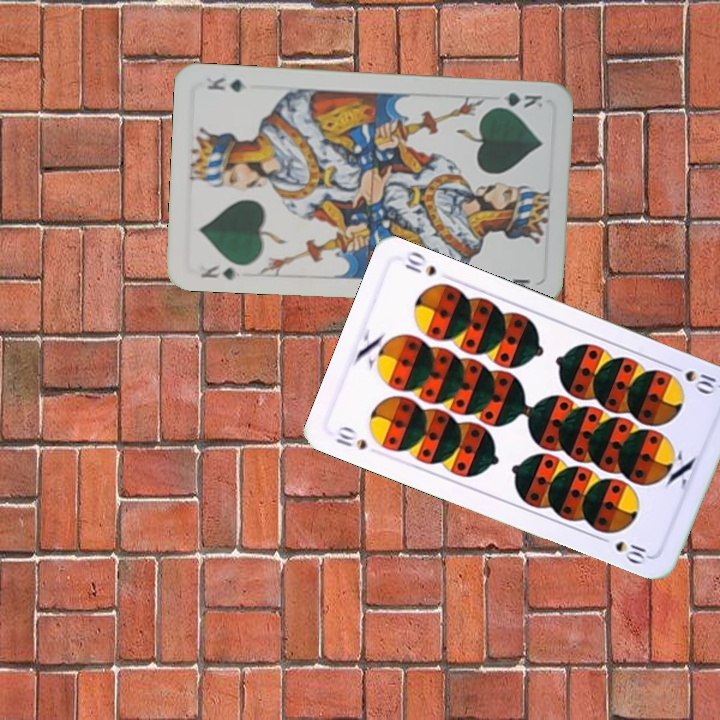GK: (488, 89, 545, 111), (196, 261, 242, 282)
S10: (666, 361, 719, 397), (332, 422, 369, 453)
